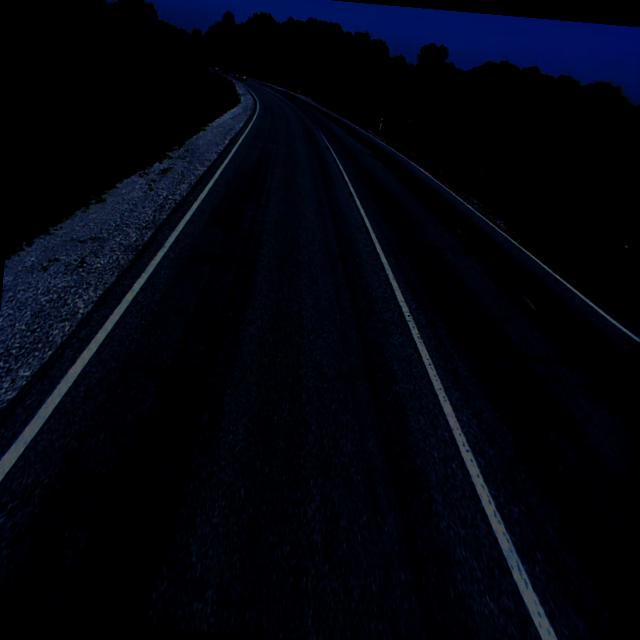road: (0, 76, 639, 640)
